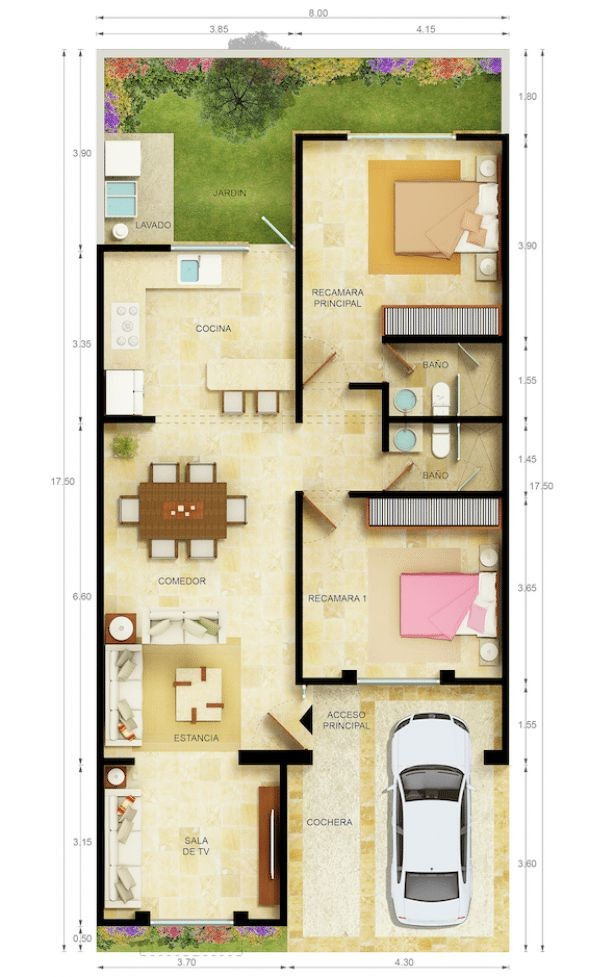wall: (96, 243, 104, 925), (500, 419, 508, 750), (294, 131, 302, 425), (501, 134, 509, 428), (295, 492, 303, 684), (278, 752, 286, 927), (348, 491, 507, 499), (236, 749, 311, 765), (380, 416, 505, 423), (382, 336, 503, 342), (380, 383, 389, 451), (96, 244, 171, 252), (95, 416, 156, 424), (295, 133, 347, 141), (455, 133, 507, 141), (439, 678, 502, 684), (294, 678, 357, 684), (483, 751, 508, 766), (97, 919, 150, 926), (347, 382, 388, 390), (96, 757, 135, 765), (236, 919, 281, 925), (133, 911, 149, 927), (340, 669, 355, 685), (439, 669, 454, 684), (233, 912, 248, 925)
